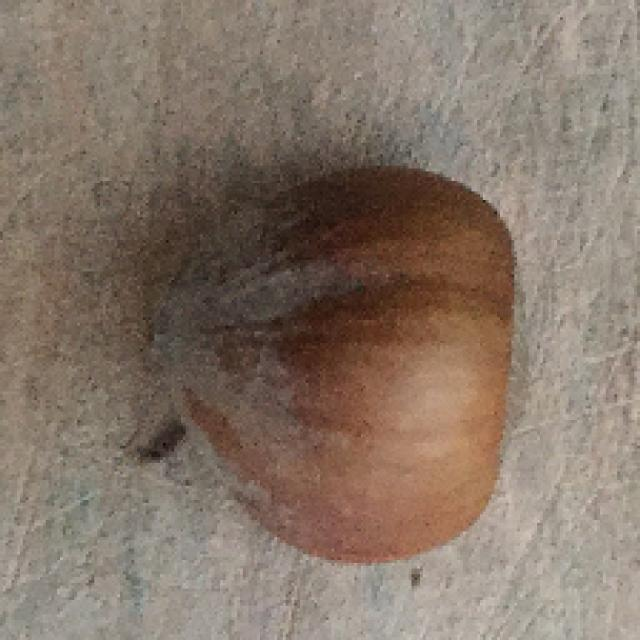damagedHazelnut: (149, 160, 535, 560)
